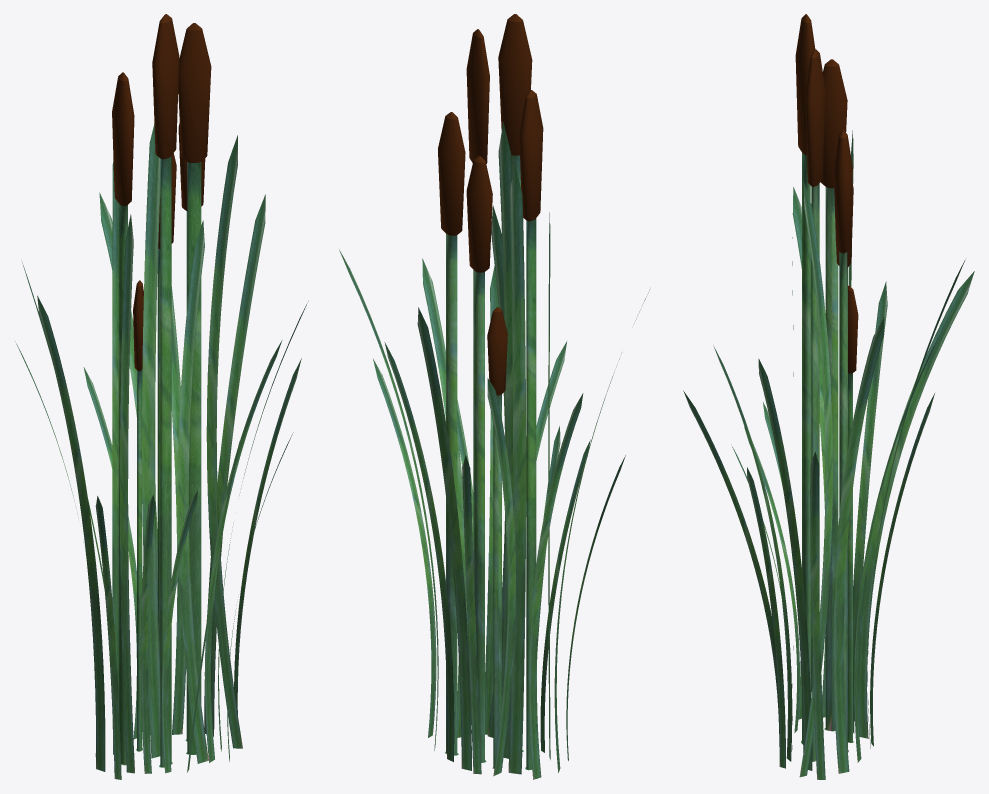
3 renders of one model, left to right at view 1: azimuth 30°, elevation 25°; view 2: azimuth 150°, elevation 25°; view 3: azimuth 270°, elevation 25°, orthographic. The views are drawn at different scales.
Parts seen in each view (by area): view 1: Cylinder002, Cylinder004, Plane004, Plane003, Plane006, Cylinder003, Plane001, Plane013, Plane008, Plane002, Cylinder005, Plane007 (+11 smaller); view 2: Plane002, Cylinder003, Cylinder006, Cylinder007, Plane005, Cylinder005, Plane004, Plane009, Cylinder002, Plane010, Cylinder004, Plane007 (+11 smaller); view 3: Cylinder003, Cylinder002, Plane008, Plane009, Cylinder007, Cylinder004, Plane003, Plane011, Plane019, Plane010, Cylinder005, Plane018 (+9 smaller).
Part boxes in pixels (x1,y1,x2,y2): Cylinder002: [152, 14, 179, 767]; Cylinder004: [178, 23, 211, 754]; Plane004: [142, 124, 160, 758]; Plane003: [206, 135, 242, 748]; Plane006: [178, 220, 208, 763]; Cylinder003: [112, 72, 134, 765]; Plane001: [119, 214, 134, 773]; Plane013: [37, 295, 105, 771]; Plane008: [204, 194, 265, 736]; Plane002: [112, 160, 118, 754]; Cylinder005: [133, 280, 143, 751]; Plane007: [171, 287, 185, 734]; Plane002: [508, 164, 526, 774]; Cylinder003: [519, 90, 543, 770]; Cylinder006: [466, 156, 492, 762]; Cylinder007: [438, 112, 465, 755]; Plane005: [417, 307, 471, 770]; Cylinder005: [487, 307, 507, 768]; Plane004: [498, 122, 512, 758]; Plane009: [487, 378, 515, 776]; Cylinder002: [498, 14, 532, 751]; Plane010: [528, 393, 583, 779]; Cylinder004: [466, 29, 489, 578]; Plane007: [384, 342, 454, 761]; Cylinder003: [820, 59, 847, 731]; Cylinder002: [795, 14, 815, 744]; Plane008: [833, 317, 884, 773]; Plane009: [857, 271, 974, 738]; Cylinder007: [833, 130, 852, 741]; Cylinder004: [805, 49, 825, 761]; Plane003: [799, 181, 832, 777]; Plane011: [758, 358, 812, 770]; Plane019: [810, 451, 825, 779]; Plane010: [853, 281, 887, 721]; Cylinder005: [848, 285, 858, 742]; Plane018: [747, 467, 785, 768].
Bounding box in the file's own units: 94.74 × 246 × 89.37.
Materials: 2 (1 with a texture image).
